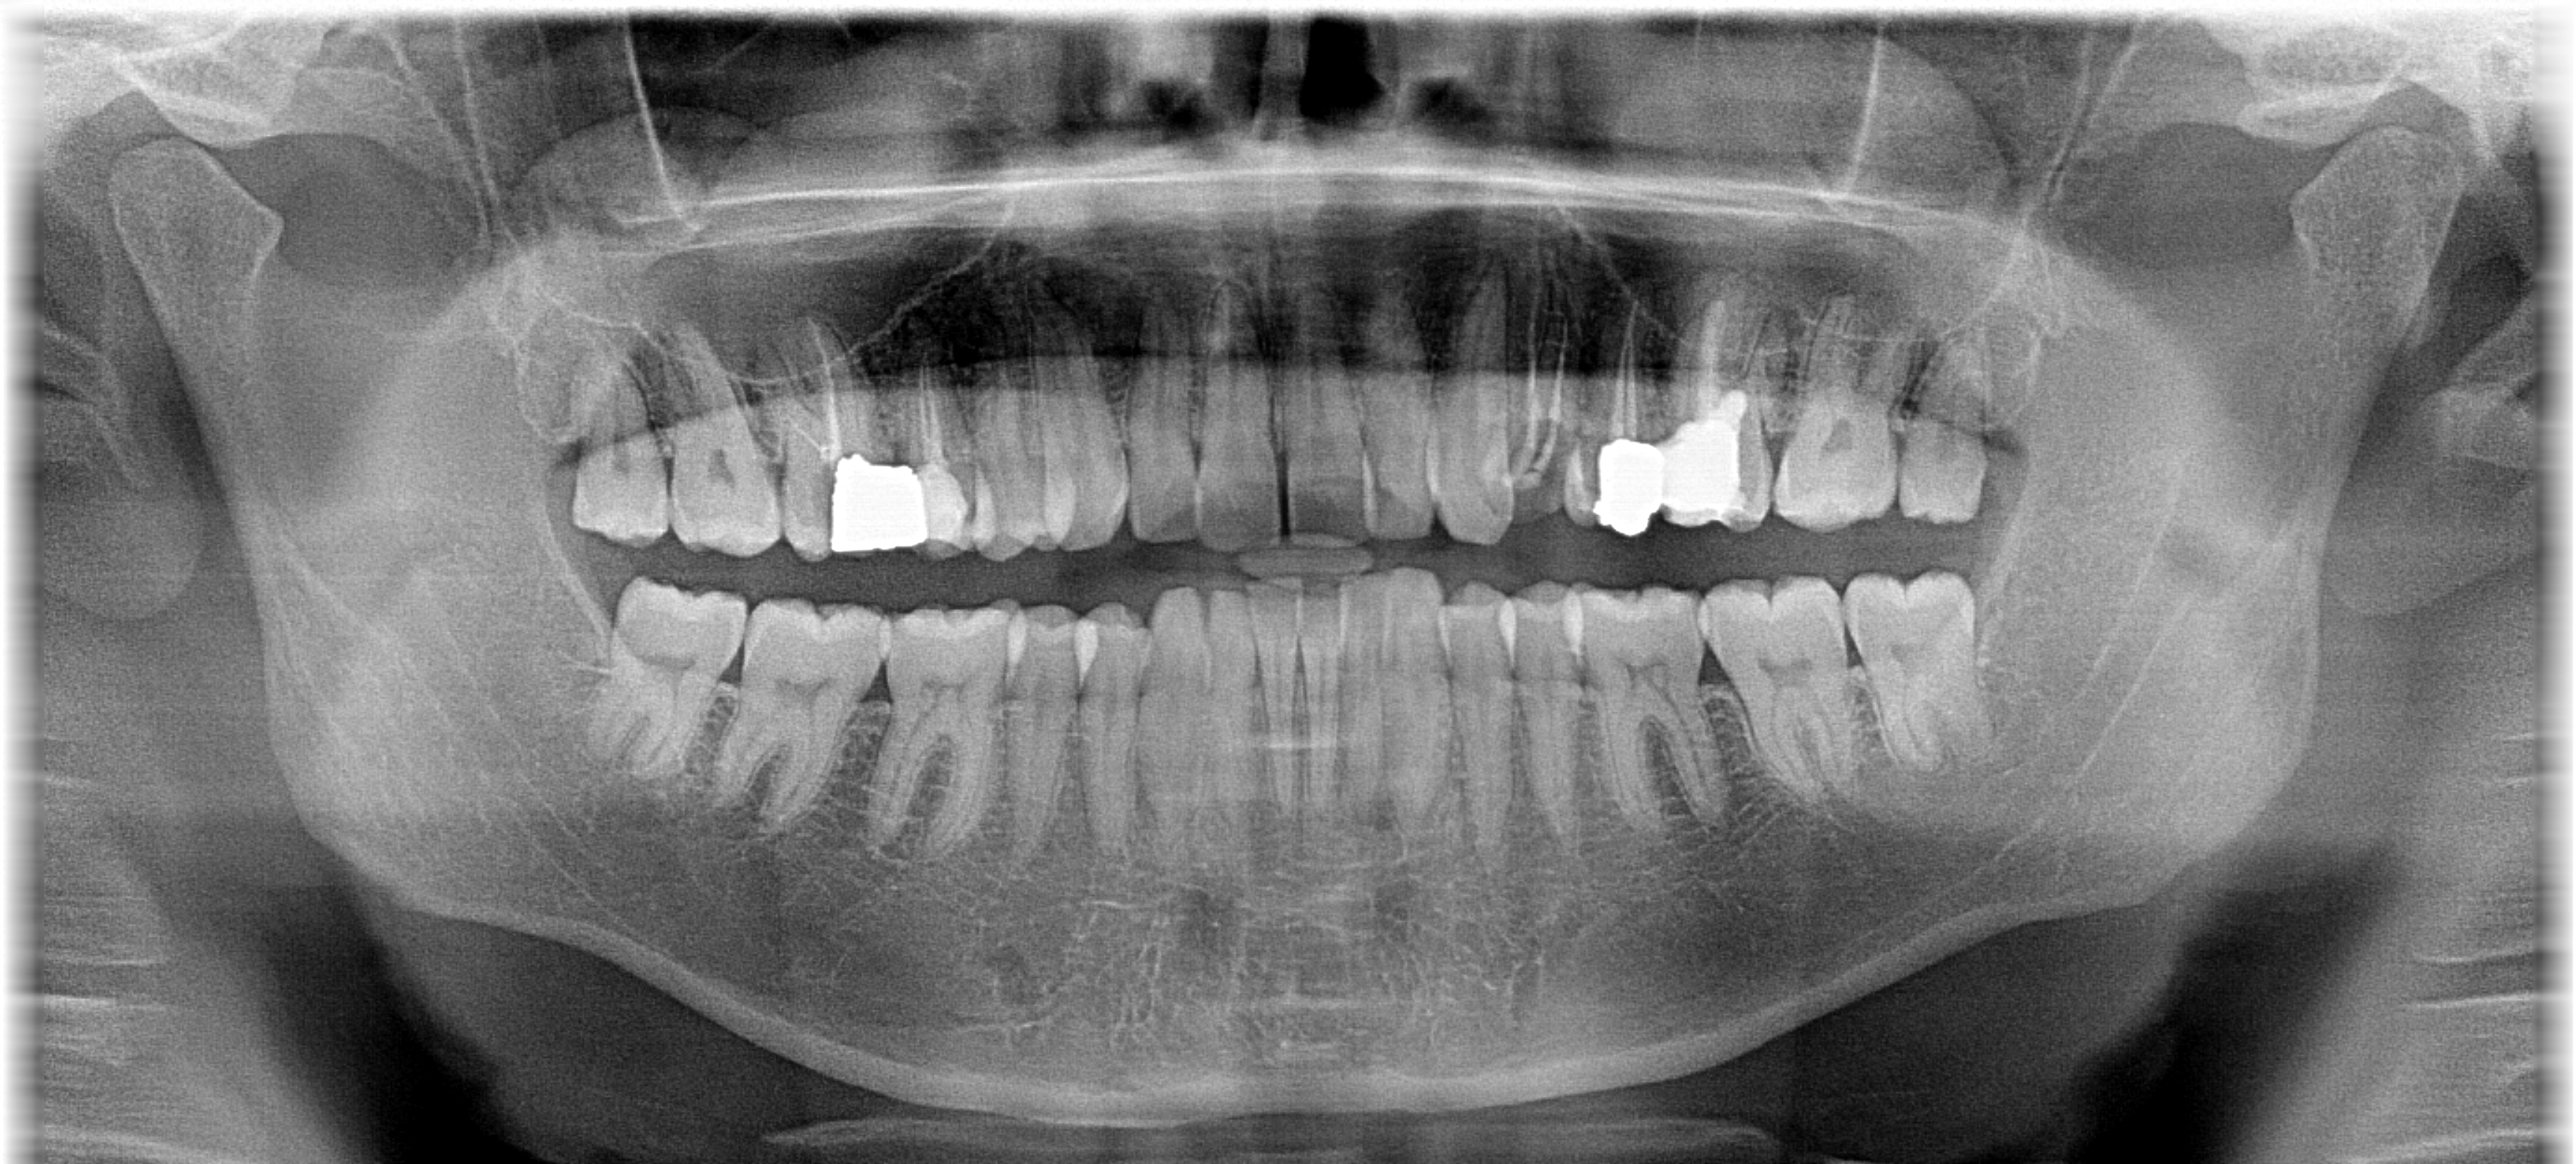apinamiento: (1184, 562, 1459, 677)
cordal: (1832, 552, 2044, 796), (557, 570, 754, 783), (1881, 340, 2045, 544), (549, 349, 688, 554)
tratamiento_conducto: (726, 293, 917, 569), (1472, 286, 1590, 529), (1564, 306, 1672, 534)
